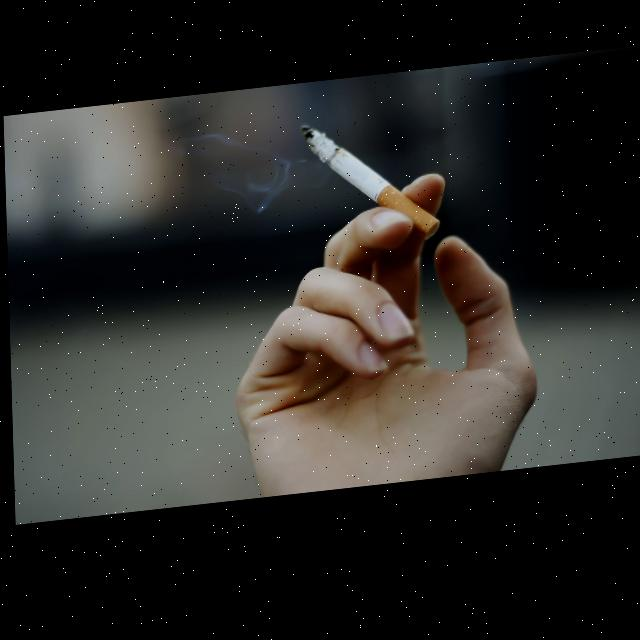cigarette: (299, 119, 439, 259)
